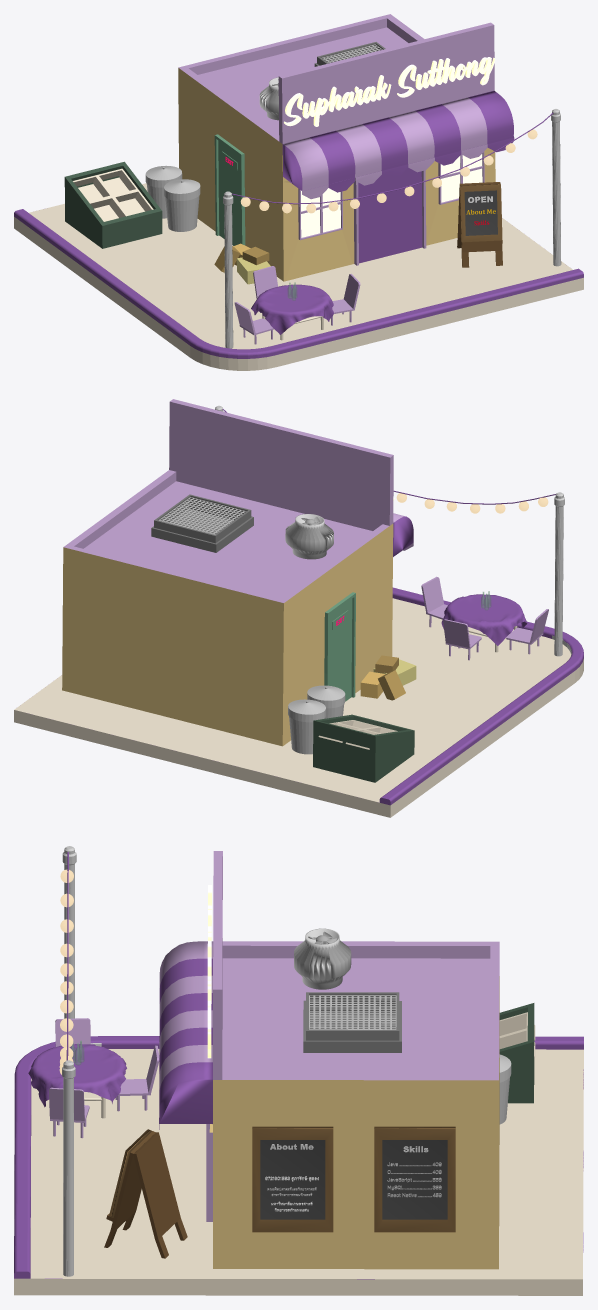
Rendered from coffee.glb.
3 views of the same model, one above another, from view 1: azimuth 30°, elevation 25°; view 2: azimuth 150°, elevation 25°; view 3: azimuth 270°, elevation 25° (orthographic). The views are drawn at different scales.
Visible parts, largest first — view 1: Cube.001, Cube, Plane, Cube.006, Text, Cylinder.045, Plane.001, Cube.019, Cube.012, Cube.017, Sphere.012, Cube.018 (+7 smaller); view 2: Cube.001, Cube, Cube.006, Cube.002, Plane.001, Cylinder, Cube.003, Cylinder.045, Cube.018, Cube.017, Cube.008, Cube.007 (+4 smaller); view 3: Cube.001, Cube, Plane, skills, about, Cube.002, Plane.001, Cylinder.045, Cube.021, Cube.006, Cylinder, Cube.003 (+7 smaller).
Part boxes in pixels (x1=…): Cube.001: x1=178, y1=14, x2=495, y2=281; Cube: x1=14, y1=183, x2=583, y2=370; Plane: x1=282, y1=90, x2=514, y2=199; Cube.006: x1=64, y1=161, x2=162, y2=248; Text: x1=284, y1=57, x2=495, y2=126; Cylinder.045: x1=223, y1=109, x2=561, y2=348; Plane.001: x1=251, y1=284, x2=333, y2=334; Cube.019: x1=301, y1=154, x2=482, y2=237; Cube.012: x1=460, y1=184, x2=502, y2=242; Cube.017: x1=164, y1=179, x2=200, y2=231; Sphere.012: x1=240, y1=129, x2=537, y2=213; Cube.018: x1=145, y1=165, x2=182, y2=218; Cube.001: x1=62, y1=399, x2=393, y2=746; Cube: x1=14, y1=587, x2=583, y2=817; Cube.006: x1=313, y1=714, x2=414, y2=782; Cube.002: x1=151, y1=494, x2=253, y2=552; Plane.001: x1=441, y1=594, x2=527, y2=645; Cylinder: x1=285, y1=514, x2=333, y2=559; Cube.003: x1=159, y1=497, x2=246, y2=534; Cylinder.045: x1=215, y1=405, x2=564, y2=656; Cube.018: x1=288, y1=699, x2=325, y2=754; Cube.017: x1=307, y1=685, x2=345, y2=718; Cube.008: x1=443, y1=619, x2=481, y2=660; Cube.007: x1=421, y1=576, x2=447, y2=627; Cube.001: x1=206, y1=851, x2=499, y2=1269; Cube: x1=14, y1=1036, x2=583, y2=1295; Plane: x1=159, y1=941, x2=213, y2=1129; skills: x1=374, y1=1126, x2=455, y2=1232; about: x1=252, y1=1126, x2=333, y2=1232; Cube.002: x1=303, y1=992, x2=401, y2=1052; Plane.001: x1=28, y1=1044, x2=126, y2=1107; Cylinder.045: x1=62, y1=846, x2=76, y2=1276; Cube.021: x1=133, y1=1132, x2=187, y2=1258; Cube.006: x1=499, y1=1003, x2=535, y2=1103; Cylinder: x1=294, y1=928, x2=351, y2=989; Cube.003: x1=309, y1=995, x2=396, y2=1029.
Bounding box in the file's own units: 10.05 × 5.8 × 10.02.
